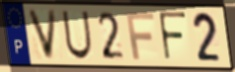2: (192, 9, 226, 67), (97, 10, 127, 62)
F: (156, 10, 188, 64), (124, 12, 156, 62)
U: (60, 9, 94, 61)
V: (25, 8, 58, 62)
